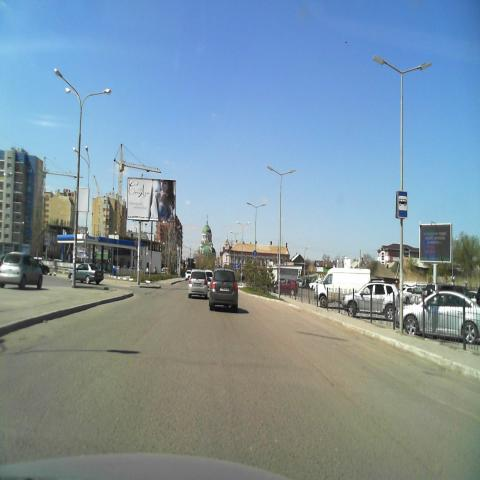5_16: (396, 191, 407, 218)
